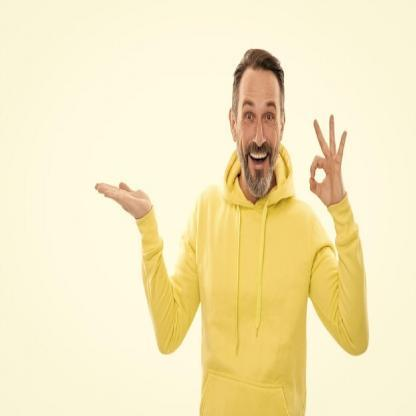ok: (304, 112, 350, 207)
